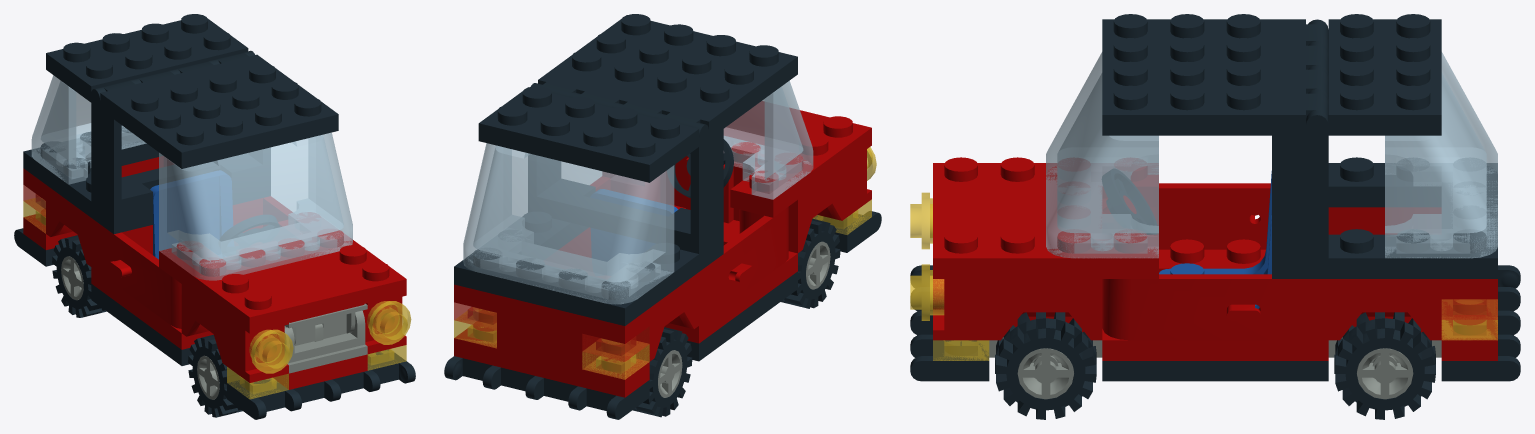
The model's file is car.dae.
3 views of the same model, side by side, from view 1: azimuth 30°, elevation 25°; view 2: azimuth 150°, elevation 25°; view 3: azimuth 270°, elevation 25° (orthographic). The views are drawn at different scales.
Size of the model in its own units: 90 by 216 by 124.
